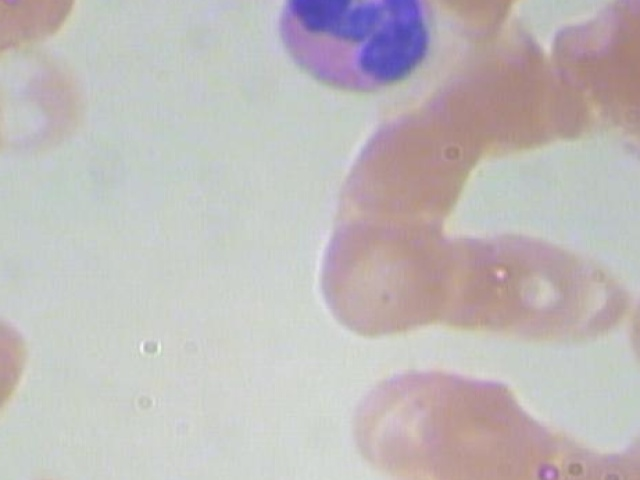RBC: (304, 218, 463, 341), (334, 357, 460, 480), (544, 0, 640, 153), (479, 225, 595, 345), (339, 123, 470, 217), (0, 37, 98, 161), (0, 304, 38, 465), (616, 253, 640, 385)
WBC: (271, 0, 449, 108)
